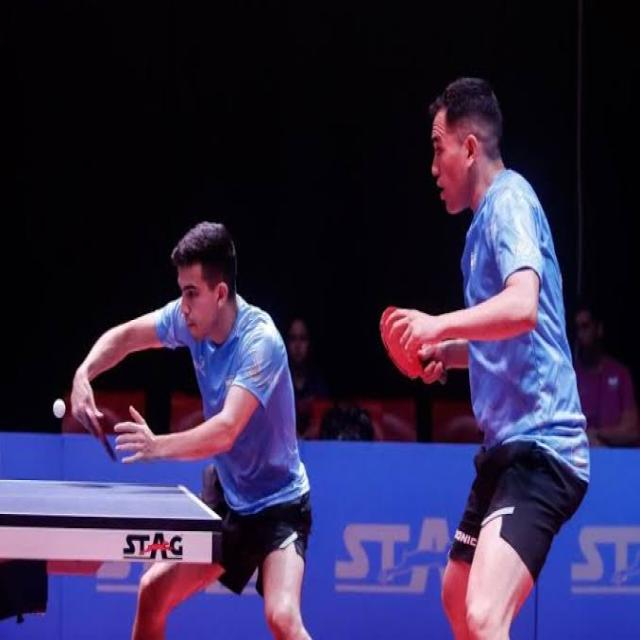TT Racket: (370, 300, 430, 383), (78, 400, 122, 468)
TT Table: (2, 478, 218, 525)
